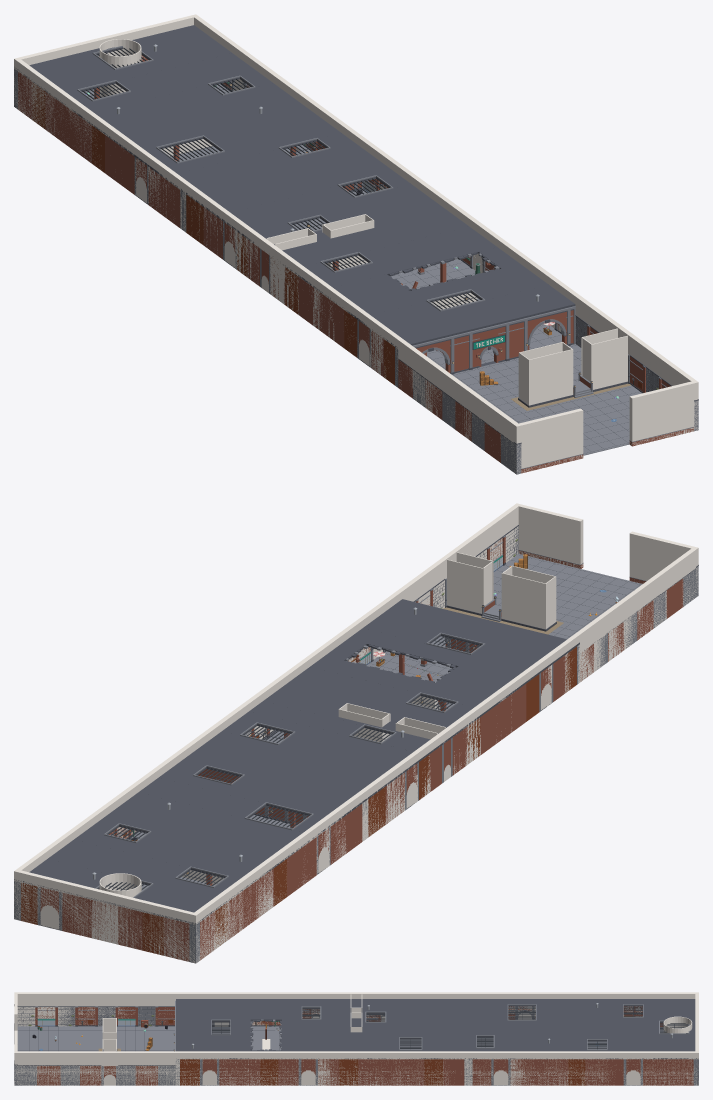
The model's file is CatCafe_Sewer_SetF85.glb.
3 renders of one model, top to bottom at view 1: azimuth 30°, elevation 25°; view 2: azimuth 150°, elevation 25°; view 3: azimuth 270°, elevation 25°, orthographic. The views are drawn at different scales.
Visible parts, largest first — view 1: CatCafe_Sewer_SetF85_040_Roof, CatCafe_Sewer_SetF85_034_Walls_Barrier, CatCafe_Sewer_SetF85, CatCafe_Sewer_SetF85_035_Canal_Barrier, CatCafe_Sewer_SetF85_010_Wall, CatCafe_Sewer_SetF85_038_TunnelFront, CatCafe_Sewer_SetF85_000_Wall, CatCafe_Sewer_SetF85_006_Wall, CatCafe_Sewer_SetF85_036_Channel_Barrier, CatCafe_Sewer_SetF85_008_Wall, CatCafe_Sewer_SetF85_009_Wall, CatCafe_Sewer_SetF85_037_Pool_Barrier (+3 smaller); view 2: CatCafe_Sewer_SetF85_040_Roof, CatCafe_Sewer_SetF85_034_Walls_Barrier, CatCafe_Sewer_SetF85, CatCafe_Sewer_SetF85_035_Canal_Barrier, CatCafe_Sewer_SetF85_010_Wall, CatCafe_Sewer_SetF85_006_Wall, CatCafe_Sewer_SetF85_000_Wall, CatCafe_Sewer_SetF85_031_Wall, CatCafe_Sewer_SetF85_036_Channel_Barrier, CatCafe_Sewer_SetF85_008_Wall, CatCafe_Sewer_SetF85_009_Wall, CatCafe_Sewer_SetF85_030_Wall (+4 smaller); view 3: CatCafe_Sewer_SetF85_040_Roof, CatCafe_Sewer_SetF85_034_Walls_Barrier, CatCafe_Sewer_SetF85, CatCafe_Sewer_SetF85_022_Wall, CatCafe_Sewer_SetF85_024_Wall, CatCafe_Sewer_SetF85_000_Wall, CatCafe_Sewer_SetF85_021_Wall, CatCafe_Sewer_SetF85_014_Wall, CatCafe_Sewer_SetF85_025_Wall, CatCafe_Sewer_SetF85_015_Wall, CatCafe_Sewer_SetF85_020_Wall, CatCafe_Sewer_SetF85_023_Wall (+10 smaller).
Boxes of the visible parts, left/top/right/bottom form: CatCafe_Sewer_SetF85_040_Roof: left=14, top=25, right=575, bottom=356; CatCafe_Sewer_SetF85_034_Walls_Barrier: left=14, top=14, right=698, bottom=473; CatCafe_Sewer_SetF85: left=82, top=84, right=641, bottom=455; CatCafe_Sewer_SetF85_035_Canal_Barrier: left=518, top=328, right=627, bottom=405; CatCafe_Sewer_SetF85_010_Wall: left=18, top=72, right=134, bottom=194; CatCafe_Sewer_SetF85_038_TunnelFront: left=395, top=306, right=575, bottom=387; CatCafe_Sewer_SetF85_000_Wall: left=398, top=358, right=513, bottom=472; CatCafe_Sewer_SetF85_006_Wall: left=270, top=257, right=357, bottom=357; CatCafe_Sewer_SetF85_036_Channel_Barrier: left=266, top=214, right=374, bottom=269; CatCafe_Sewer_SetF85_008_Wall: left=186, top=195, right=222, bottom=259; CatCafe_Sewer_SetF85_009_Wall: left=148, top=168, right=180, bottom=227; CatCafe_Sewer_SetF85_037_Pool_Barrier: left=99, top=39, right=141, bottom=97; CatCafe_Sewer_SetF85_040_Roof: left=14, top=599, right=579, bottom=924; CatCafe_Sewer_SetF85_034_Walls_Barrier: left=14, top=503, right=698, bottom=963; CatCafe_Sewer_SetF85: left=128, top=553, right=642, bottom=890; CatCafe_Sewer_SetF85_035_Canal_Barrier: left=447, top=552, right=556, bottom=629; CatCafe_Sewer_SetF85_010_Wall: left=200, top=837, right=316, bottom=960; CatCafe_Sewer_SetF85_006_Wall: left=452, top=674, right=539, bottom=775; CatCafe_Sewer_SetF85_000_Wall: left=580, top=568, right=695, bottom=681; CatCafe_Sewer_SetF85_031_Wall: left=118, top=906, right=189, bottom=961; CatCafe_Sewer_SetF85_036_Channel_Barrier: left=338, top=703, right=445, bottom=742; CatCafe_Sewer_SetF85_008_Wall: left=368, top=772, right=404, bottom=836; CatCafe_Sewer_SetF85_009_Wall: left=330, top=804, right=362, bottom=864; CatCafe_Sewer_SetF85_030_Wall: left=62, top=893, right=91, bottom=937; CatCafe_Sewer_SetF85_040_Roof: left=176, top=999, right=698, bottom=1059; CatCafe_Sewer_SetF85_034_Walls_Barrier: left=14, top=992, right=698, bottom=1085; CatCafe_Sewer_SetF85: left=17, top=1026, right=663, bottom=1051; CatCafe_Sewer_SetF85_022_Wall: left=318, top=1059, right=464, bottom=1085; CatCafe_Sewer_SetF85_024_Wall: left=510, top=1059, right=623, bottom=1085; CatCafe_Sewer_SetF85_000_Wall: left=17, top=1006, right=174, bottom=1026; CatCafe_Sewer_SetF85_021_Wall: left=219, top=1059, right=298, bottom=1085; CatCafe_Sewer_SetF85_014_Wall: left=17, top=1065, right=101, bottom=1085; CatCafe_Sewer_SetF85_025_Wall: left=643, top=1059, right=693, bottom=1085; CatCafe_Sewer_SetF85_015_Wall: left=118, top=1065, right=175, bottom=1085; CatCafe_Sewer_SetF85_020_Wall: left=180, top=1059, right=199, bottom=1085; CatCafe_Sewer_SetF85_023_Wall: left=472, top=1059, right=491, bottom=1085.
Bounding box in the file's own units: 119 × 30 × 569.
Materials: 1 (1 with a texture image).
